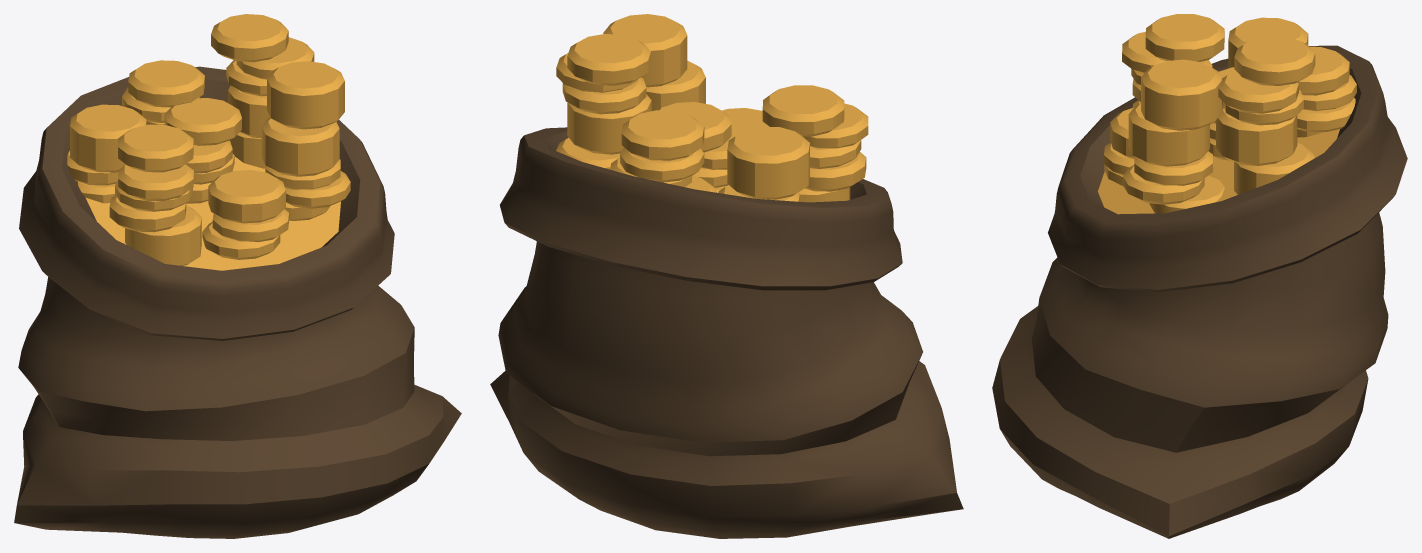
Rendered from Gold Bag-transformed.glb.
The picture shows the model from 3 angles, left to right: view 1: azimuth 30°, elevation 25°; view 2: azimuth 150°, elevation 25°; view 3: azimuth 270°, elevation 25°; orthographic projection. The views are drawn at different scales.
Visible parts, largest first — view 1: Prop_GoldBag; view 2: Prop_GoldBag; view 3: Prop_GoldBag.
Part boxes in pixels (left/top/right/bottom): Prop_GoldBag: left=14, top=14, right=461, bottom=538; Prop_GoldBag: left=490, top=14, right=963, bottom=538; Prop_GoldBag: left=992, top=14, right=1407, bottom=538.
Size of the model in its own units: 0.6661 by 0.6153 by 0.5187.
1 material, 1 textured.
